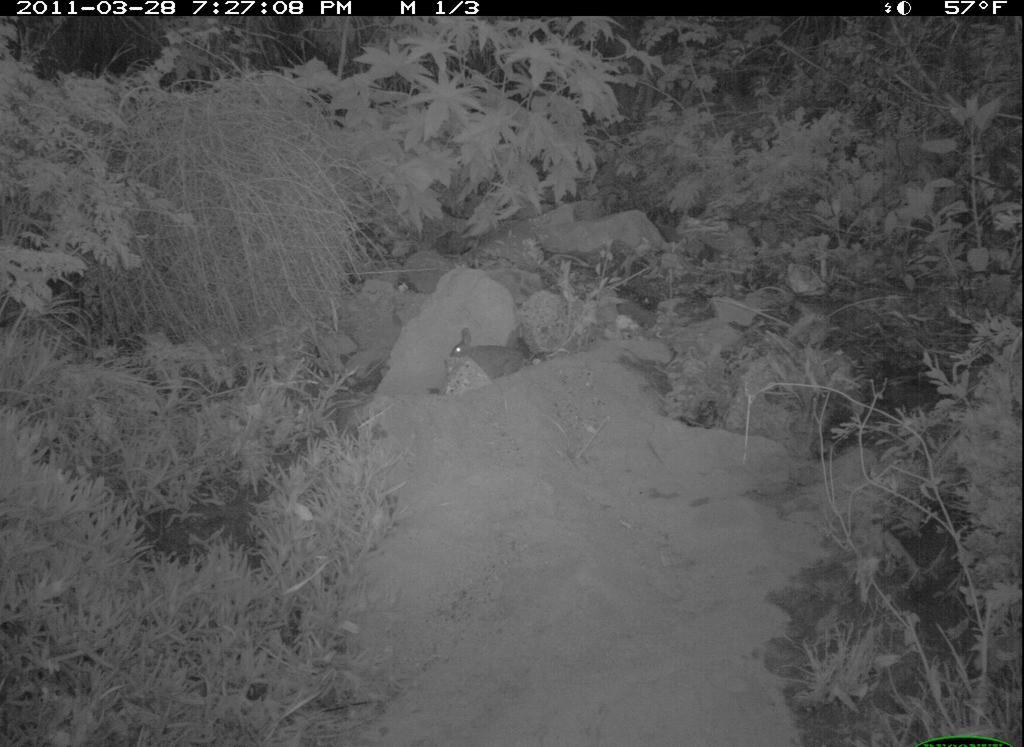rabbit: (440, 308, 543, 401)
